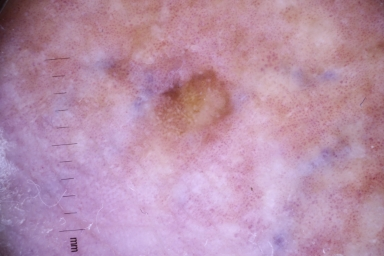melanoma: (157, 72, 235, 138)
